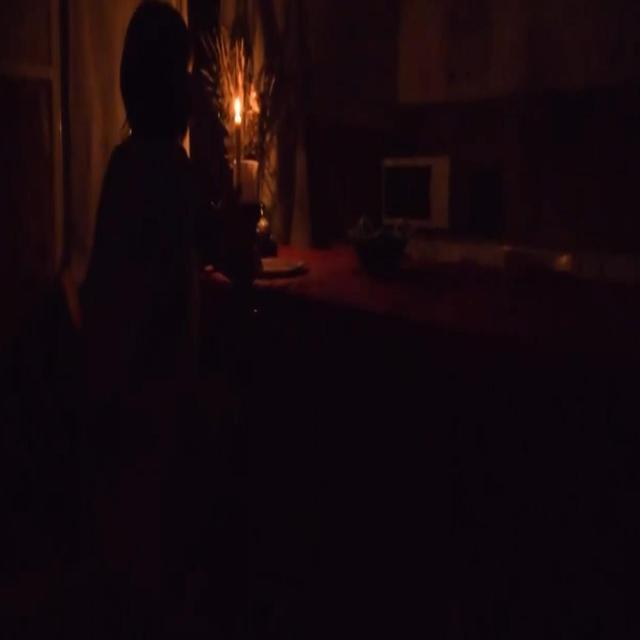smoke: (233, 95, 243, 119)
